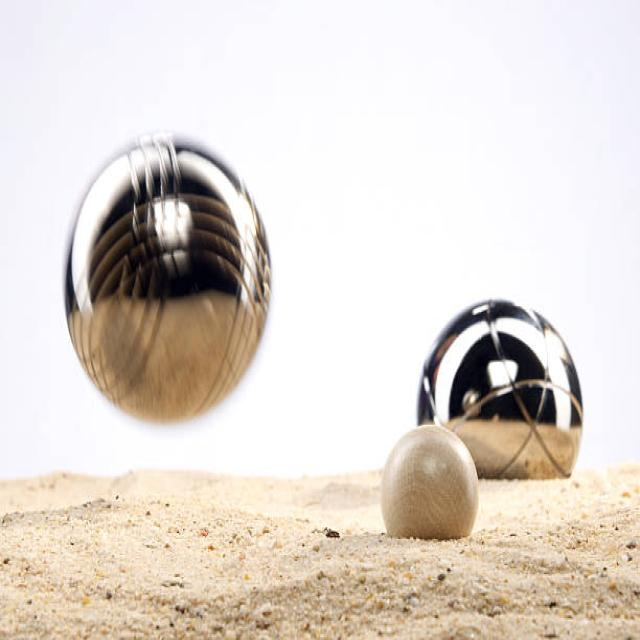hatball: (372, 419, 482, 556)
petanque: (60, 135, 279, 444), (400, 286, 590, 493)
